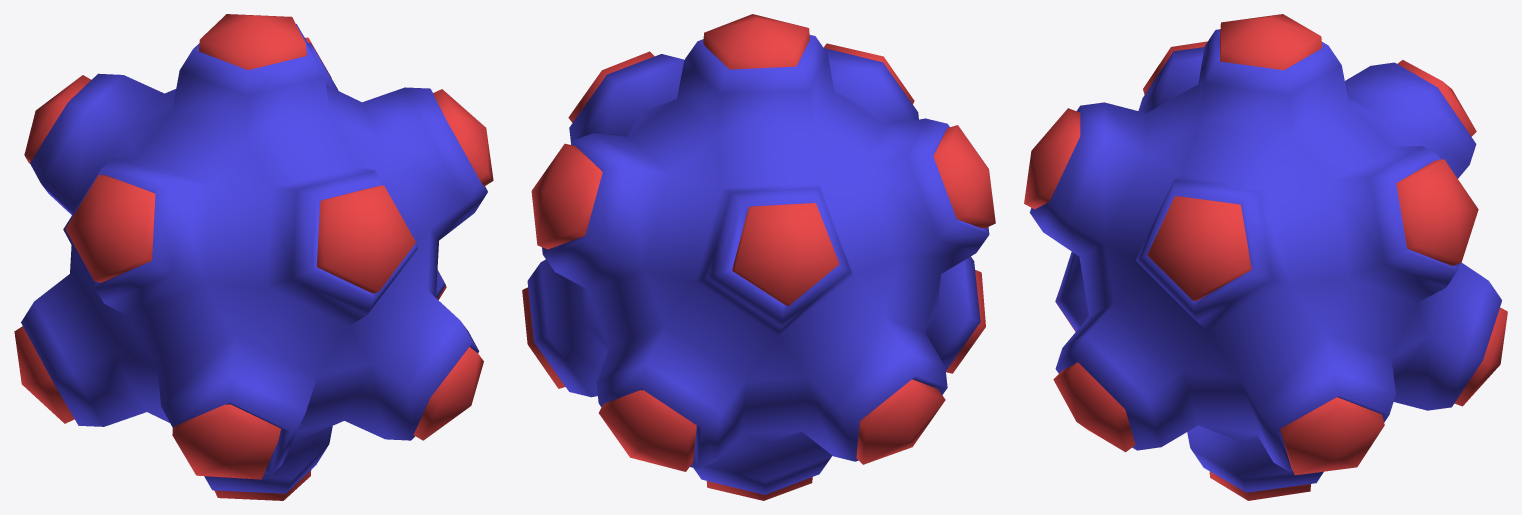
File: mine.fbx
The picture shows the model from 3 angles, left to right: view 1: azimuth 30°, elevation 25°; view 2: azimuth 150°, elevation 25°; view 3: azimuth 270°, elevation 25°; orthographic projection.
Parts seen in each view (by area): view 1: SMDImport; view 2: SMDImport; view 3: SMDImport.
Boxes of the visible parts, bbox=[...] form: SMDImport: bbox=[14, 14, 493, 500]; SMDImport: bbox=[522, 14, 995, 500]; SMDImport: bbox=[1024, 14, 1507, 500].
Bounding box in the file's own units: 110 × 126 × 115.
